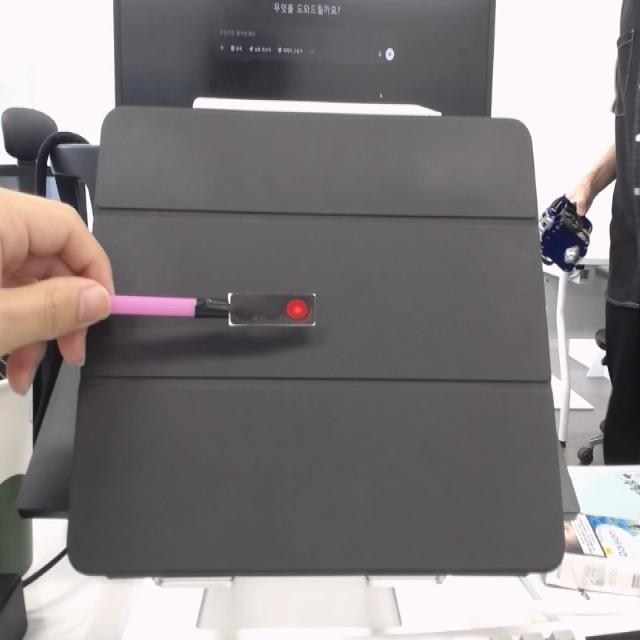traffic light: (229, 290, 318, 336)
